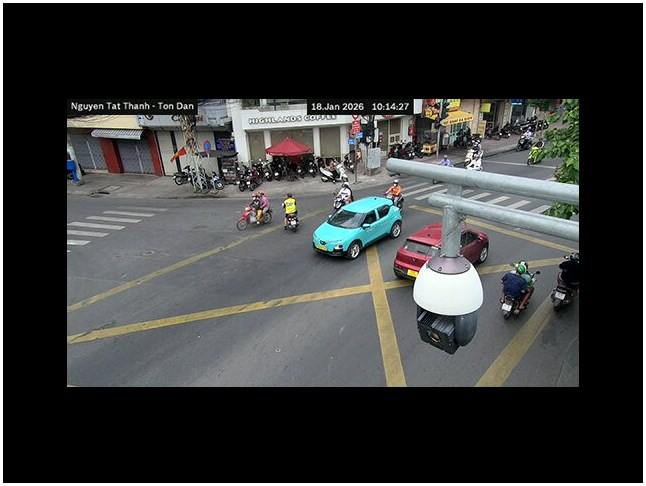car: (392, 217, 489, 281), (312, 194, 403, 260)
motorbike: (499, 260, 536, 317), (550, 261, 579, 312), (236, 197, 272, 230), (550, 276, 579, 312), (331, 180, 353, 213), (282, 194, 299, 233)
